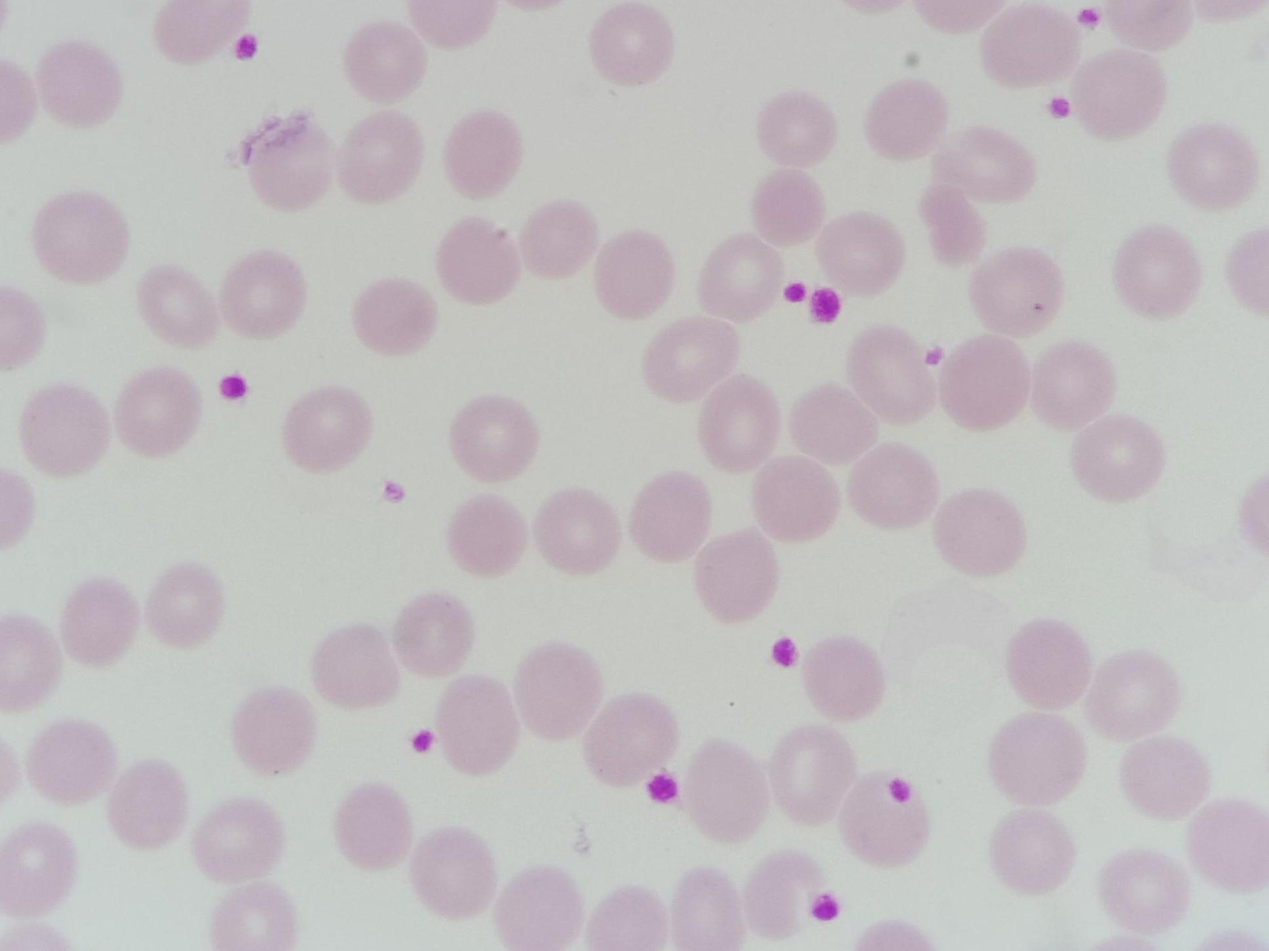Uninfected: (191, 738, 321, 814), (143, 510, 286, 577), (315, 232, 442, 305), (164, 575, 301, 642), (886, 24, 1015, 95), (111, 627, 240, 698), (216, 437, 347, 506), (816, 727, 943, 798), (278, 384, 408, 453), (276, 813, 400, 885), (691, 704, 824, 771), (699, 635, 830, 702), (234, 324, 369, 388), (842, 834, 968, 902), (1082, 802, 1202, 873), (498, 700, 623, 768), (174, 836, 295, 906), (630, 15, 758, 81), (39, 306, 165, 373), (1148, 735, 1263, 808), (317, 754, 443, 820), (645, 589, 766, 657), (693, 769, 817, 835), (1, 368, 116, 439), (597, 803, 717, 871), (984, 875, 1104, 943), (996, 251, 1123, 315), (731, 483, 850, 551), (89, 143, 208, 211), (74, 740, 192, 808), (636, 522, 765, 584), (542, 562, 663, 628), (839, 445, 967, 507), (811, 164, 933, 229), (836, 522, 958, 587), (996, 701, 1106, 773), (131, 78, 258, 140), (500, 399, 623, 463), (656, 84, 779, 147), (637, 211, 756, 276), (193, 21, 312, 86), (11, 553, 131, 617), (1098, 27, 1216, 92), (559, 635, 677, 700), (989, 184, 1112, 246), (625, 337, 744, 401), (871, 611, 988, 676), (516, 471, 638, 533), (857, 328, 978, 390), (434, 520, 555, 582), (1152, 441, 1266, 506), (234, 173, 353, 235), (303, 600, 421, 662), (377, 44, 500, 103), (21, 825, 132, 890), (75, 889, 198, 947), (1001, 333, 1121, 392), (1051, 647, 1163, 710), (106, 249, 222, 309), (47, 0, 169, 57), (1129, 256, 1239, 318), (403, 108, 518, 167), (363, 294, 476, 354), (497, 334, 611, 393), (791, 264, 901, 325), (803, 104, 917, 162), (1044, 566, 1149, 628), (892, 388, 1000, 447), (1181, 114, 1269, 185), (0, 436, 96, 501), (934, 562, 1043, 619), (2, 499, 109, 557), (1, 157, 95, 222), (912, 689, 1022, 741), (320, 1, 442, 43)
